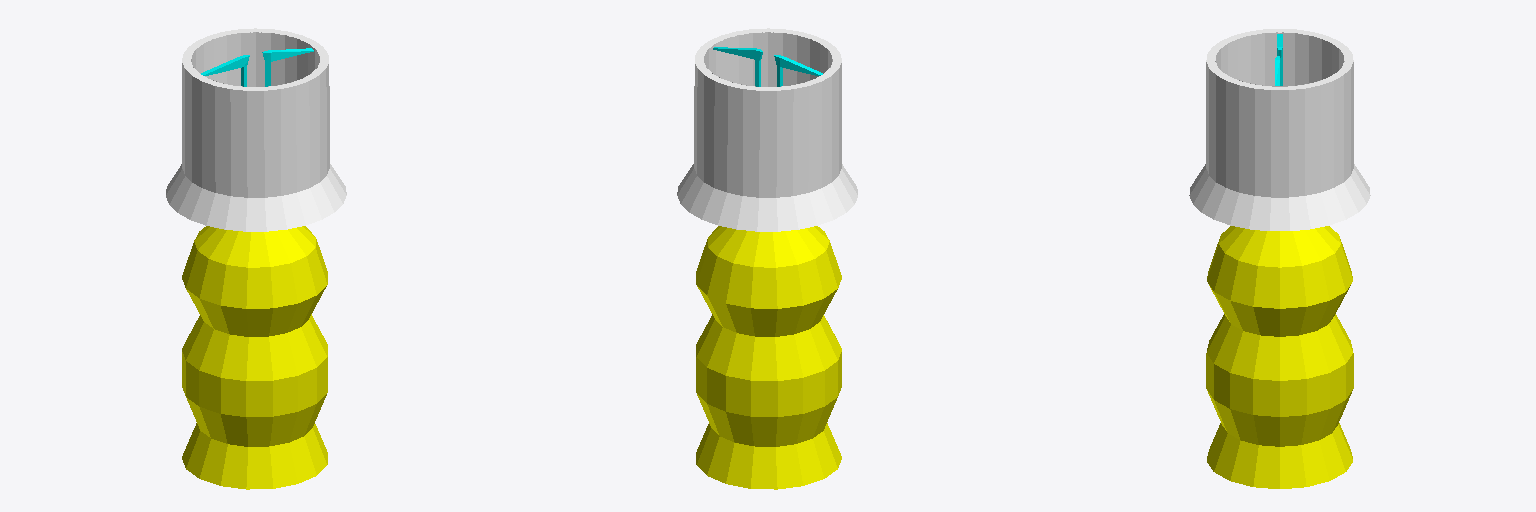
The model's file is lamp.obj.
3 views of the same model, side by side, from view 1: azimuth 30°, elevation 25°; view 2: azimuth 150°, elevation 25°; view 3: azimuth 270°, elevation 25° (orthographic).
Visible parts, largest first — view 1: pCylinder3; view 2: pCylinder3; view 3: pCylinder3.
Part boxes in pixels (x1,y1,x2,y2): pCylinder3: (166, 28, 346, 489); pCylinder3: (677, 28, 857, 489); pCylinder3: (1189, 29, 1370, 488).
Bounding box in the file's own units: 2.92 × 7.22 × 2.93.